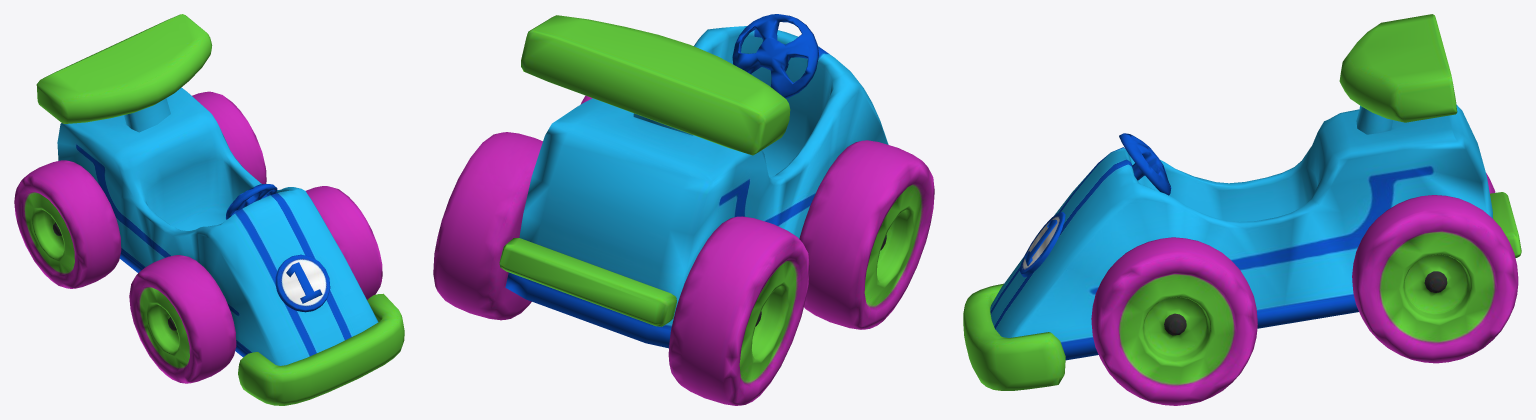
Rendered from toy_racecar.glb.
3 renders of one model, left to right at view 1: azimuth 30°, elevation 25°; view 2: azimuth 150°, elevation 25°; view 3: azimuth 270°, elevation 25°, orthographic. The views are drawn at different scales.
Visible parts, largest first — view 1: toy_racecar; view 2: toy_racecar; view 3: toy_racecar.
Boxes of the visible parts, x1,y1,x2,y2 form: toy_racecar: [14, 14, 404, 405]; toy_racecar: [433, 14, 934, 405]; toy_racecar: [963, 14, 1521, 405].
Bounding box in the file's own units: 5.1 × 5.4 × 8.29.
Materials: 1 (1 with a texture image).
